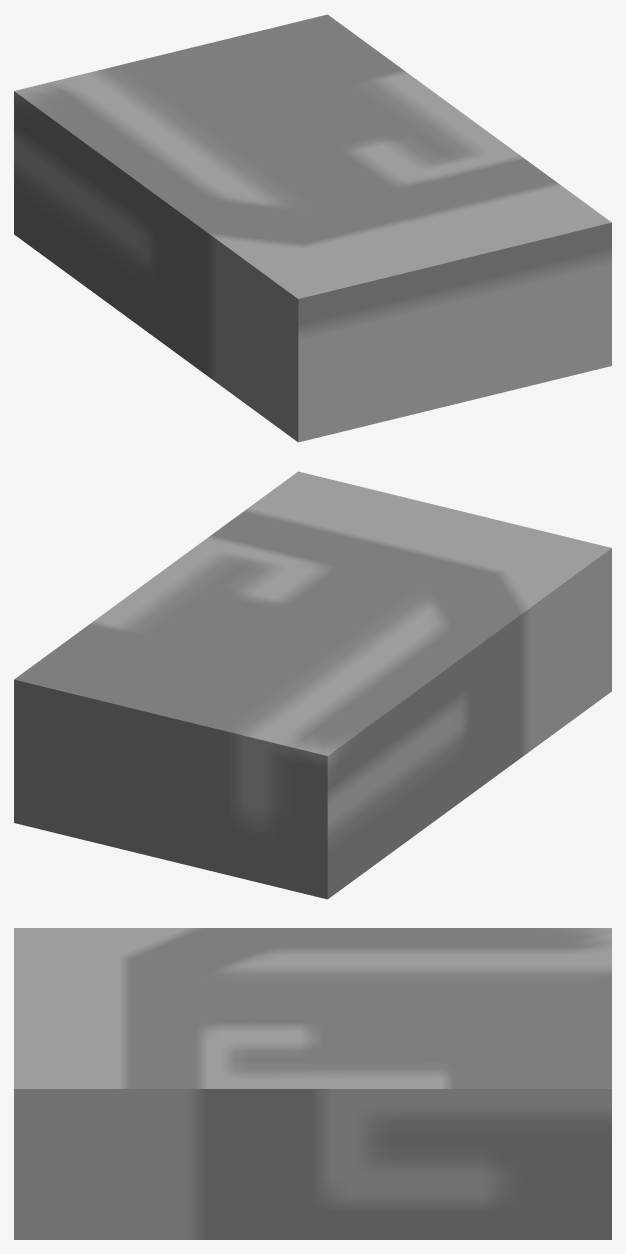
File: prop_SpawnArea.fbx
The picture shows the model from 3 angles, top to bottom: view 1: azimuth 30°, elevation 25°; view 2: azimuth 150°, elevation 25°; view 3: azimuth 270°, elevation 25°; orthographic projection. The views are drawn at different scales.
Visible parts, largest first — view 1: prop_SpawnArea; view 2: prop_SpawnArea; view 3: prop_SpawnArea.
Boxes of the visible parts, box(x1,y1,x2,y2) form: prop_SpawnArea: box(14, 14, 611, 442); prop_SpawnArea: box(14, 471, 611, 899); prop_SpawnArea: box(14, 928, 611, 1239).
Size of the model in its own units: 1427 by 623 by 2239.
